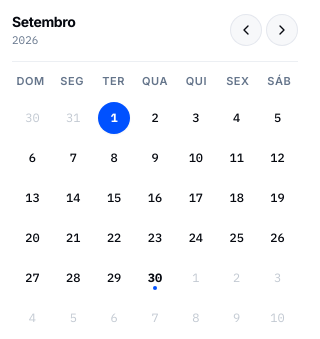
Calendar component (Shadcn UI) › deve navegar entre meses usando os botões de chevron
Check: the text "Setembro" is shown, box [12,12,76,32]
Click the button named "Próximo mês".
click(282, 30)  # box [266,14,298,46]
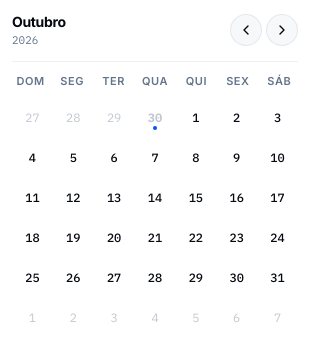
Check: the text "Outubro" is shown, box [12,12,66,32]
Click the button named "Mês anterior".
click(246, 30)  # box [230,14,262,46]
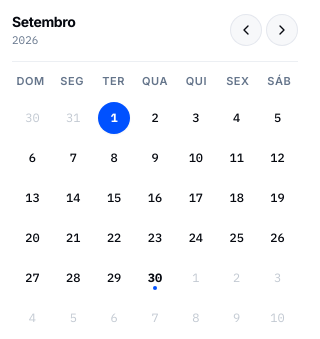
Check: the text "Setembro" is shown, box [12,12,76,32]
